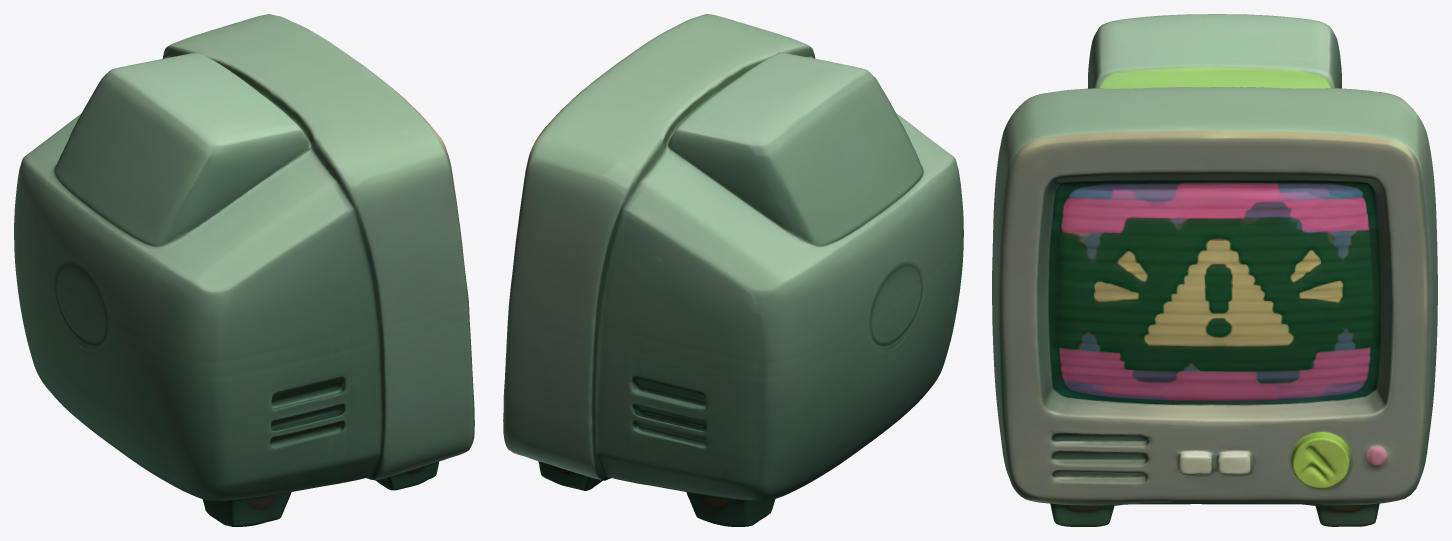
The model's file is retro_monitor.glb.
3 views of the same model, side by side, from view 1: azimuth 30°, elevation 25°; view 2: azimuth 150°, elevation 25°; view 3: azimuth 270°, elevation 25° (orthographic). The views are drawn at different scales.
Visible parts, largest first — view 1: tripo_node_0b78e457; view 2: tripo_node_0b78e457; view 3: tripo_node_0b78e457.
Boxes of the visible parts, x1,y1,x2,y2 form: tripo_node_0b78e457: (14, 14, 474, 526); tripo_node_0b78e457: (503, 14, 963, 526); tripo_node_0b78e457: (992, 14, 1437, 526).
Bounding box in the file's own units: 88.37 × 99.97 × 98.29.
1 material, 1 textured.
